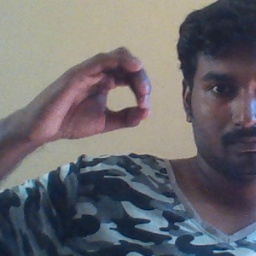O: (38, 43, 154, 141)
